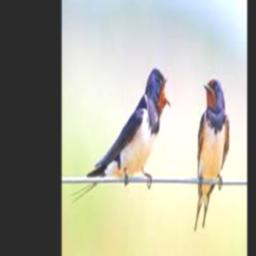Swallow: (71, 67, 173, 202), (195, 76, 229, 232)
